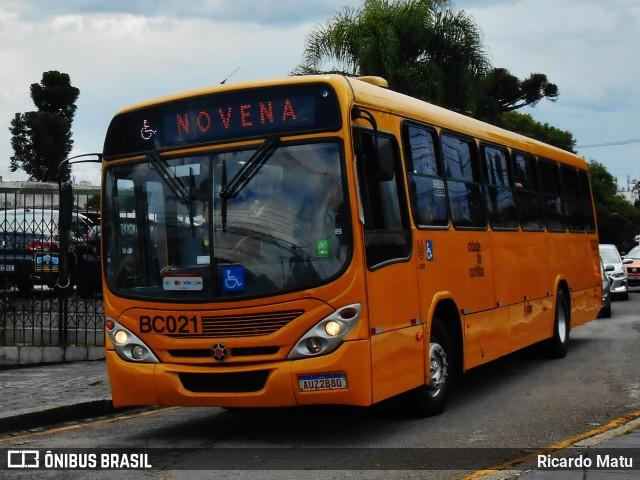NOVENA: (169, 94, 304, 141)
